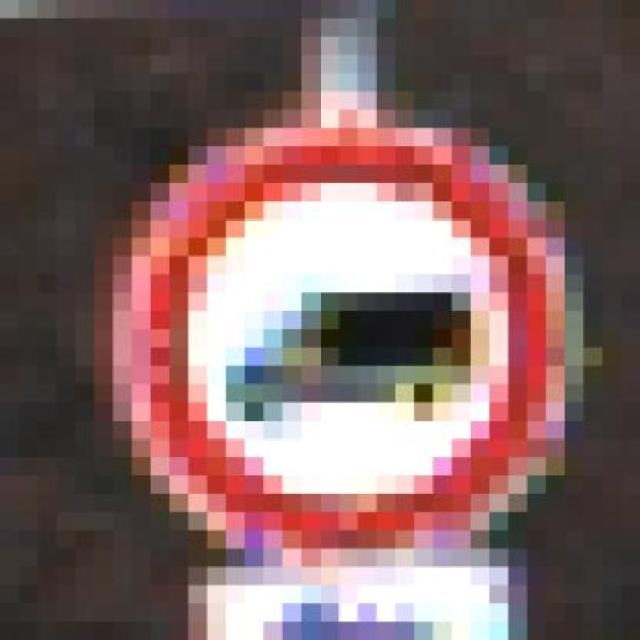Truck traffic is prohibited: (75, 91, 602, 567)
